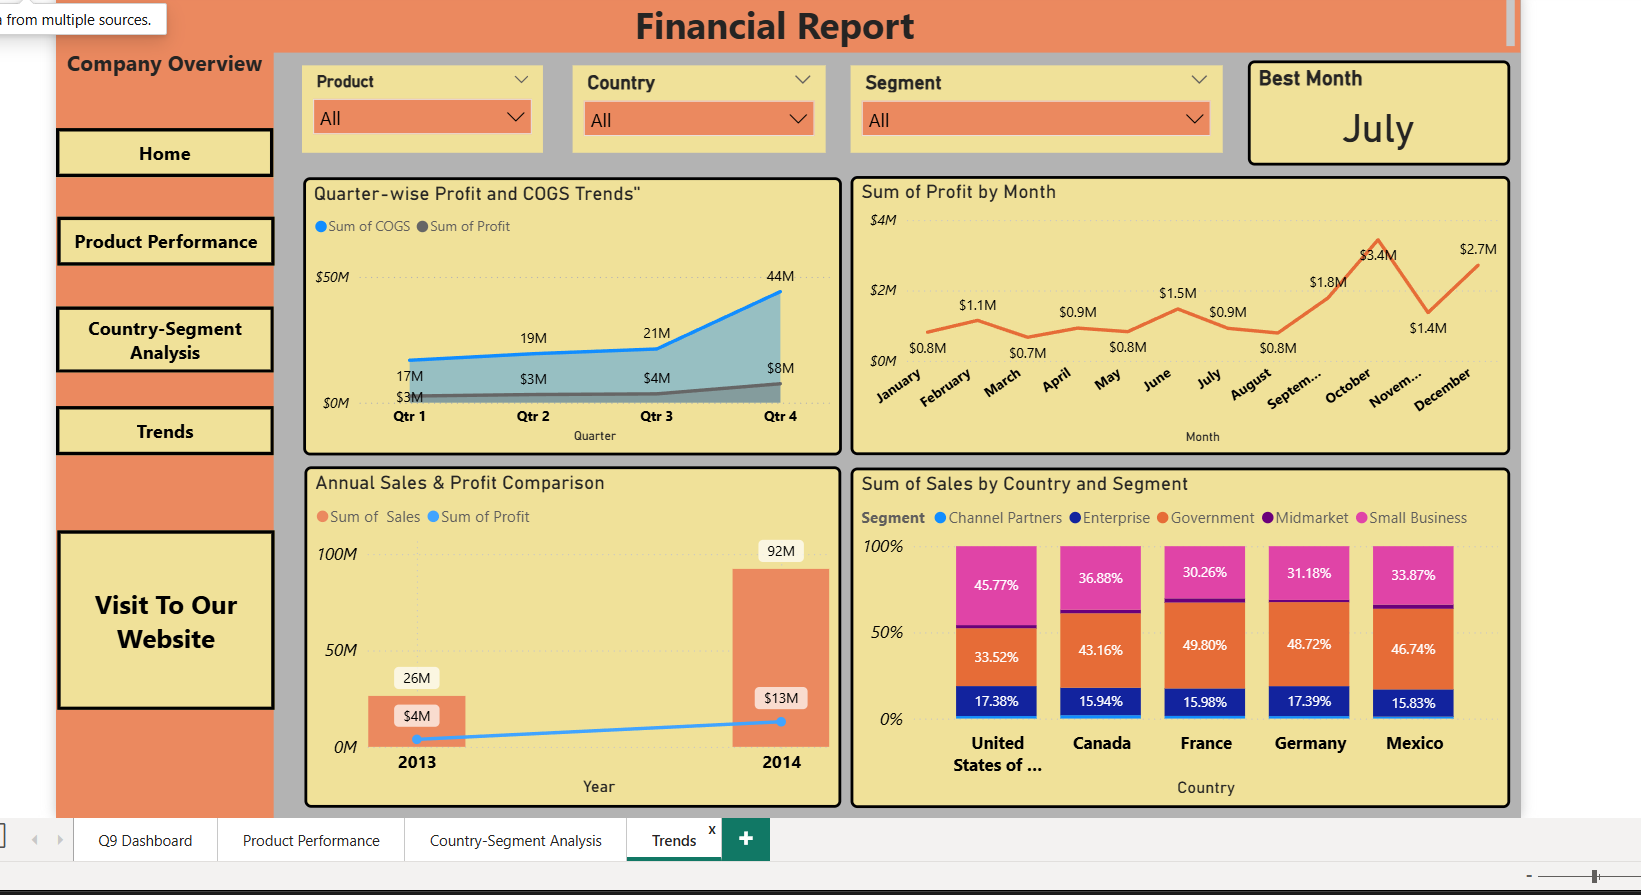

The dashboard page shown, as its layout file describes it:
{"tool":"powerbi","page":{"name":"Trends","canvas":[1280,720],"ordinal":3},"visuals":[{"type":"textbox","box":[0,0,1280,51.4],"z":0},{"type":"textbox","box":[0,41.4,190,678.6],"z":1000},{"type":"actionButton","box":[0,117.1,190,42.9],"z":2000},{"type":"actionButton","box":[0,273,190.5,58.1],"z":3000},{"type":"actionButton","box":[1.4,194.3,190,42.9],"z":4000},{"type":"actionButton","box":[0,360.1,190.5,43],"z":5000},{"type":"areaChart","title":"Quarter-wise Profit and COGS Trends\"","fields":{"Y":["Sum(financials.COGS)","Sum(financials.Profit)"],"Category":["financials.Date.Variation.Date Hierarchy.Quarter"]},"box":[216.1,160.3,470.5,242.8],"z":6000},{"type":"slicer","fields":{"Values":["financials.Product"]},"box":[215.4,62.4,210.6,76.5],"z":7000},{"type":"slicer","fields":{"Values":["financials.Country"]},"box":[451.9,62.4,221.2,76.5],"z":8000},{"type":"actionButton","box":[1.4,468.6,190,157.1],"z":9000},{"type":"slicer","fields":{"Values":["financials.Segment"]},"box":[694.3,62.4,324.8,76.5],"z":10000},{"type":"card","title":"Best Month","fields":{"Values":["Calender date.Best Month"]},"box":[1041.5,57.7,229.5,91.8],"z":11000},{"type":"lineChart","fields":{"Y":["Sum(financials.Profit)"],"Category":["financials.Date.Variation.Date Hierarchy.Month"]},"box":[694.6,159.1,576.2,243.9],"z":12000},{"type":"lineStackedColumnComboChart","title":"Annual Sales & Profit Comparison","fields":{"Category":["financials.Date.Variation.Date Hierarchy.Year"],"Y2":["Sum(financials.Profit)"],"Y":["Sum(financials. Sales)"]},"box":[217.2,412.4,469.3,298.5],"z":13000},{"type":"hundredPercentStackedColumnChart","fields":{"Category":["financials.Country"],"Series":["financials.Segment"],"Y":["Sum(financials. Sales)"]},"box":[694.4,413.8,576.1,297.7],"z":13002}]}

Visuals, with their boxes on the page's 1280x720 design canvas (x1, y1, x2, y2). These are canvas units, not pixel positions in the 1641x895 screenshot, which may show the page scaled, cropped or inside an application window:
textbox: {"x1": 0, "y1": 0, "x2": 1280, "y2": 51}
textbox: {"x1": 0, "y1": 41, "x2": 190, "y2": 720}
actionButton: {"x1": 0, "y1": 117, "x2": 190, "y2": 160}
actionButton: {"x1": 0, "y1": 273, "x2": 190, "y2": 331}
actionButton: {"x1": 1, "y1": 194, "x2": 191, "y2": 237}
actionButton: {"x1": 0, "y1": 360, "x2": 190, "y2": 403}
"Quarter-wise Profit and COGS Trends"" areaChart: {"x1": 216, "y1": 160, "x2": 687, "y2": 403}
slicer - financials.Product: {"x1": 215, "y1": 62, "x2": 426, "y2": 139}
slicer - financials.Country: {"x1": 452, "y1": 62, "x2": 673, "y2": 139}
actionButton: {"x1": 1, "y1": 469, "x2": 191, "y2": 626}
slicer - financials.Segment: {"x1": 694, "y1": 62, "x2": 1019, "y2": 139}
"Best Month" card: {"x1": 1042, "y1": 58, "x2": 1271, "y2": 150}
lineChart - Sum(financials.Profit) x financials.Date.Variation.Date Hierarchy.Month: {"x1": 695, "y1": 159, "x2": 1271, "y2": 403}
"Annual Sales & Profit Comparison" lineStackedColumnComboChart: {"x1": 217, "y1": 412, "x2": 686, "y2": 711}
hundredPercentStackedColumnChart - financials.Country x financials.Segment: {"x1": 694, "y1": 414, "x2": 1270, "y2": 712}
